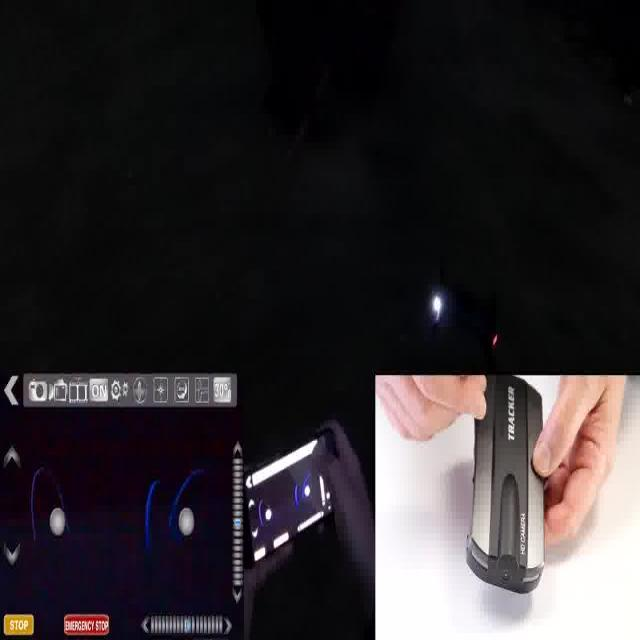drones: (414, 224, 514, 383)
